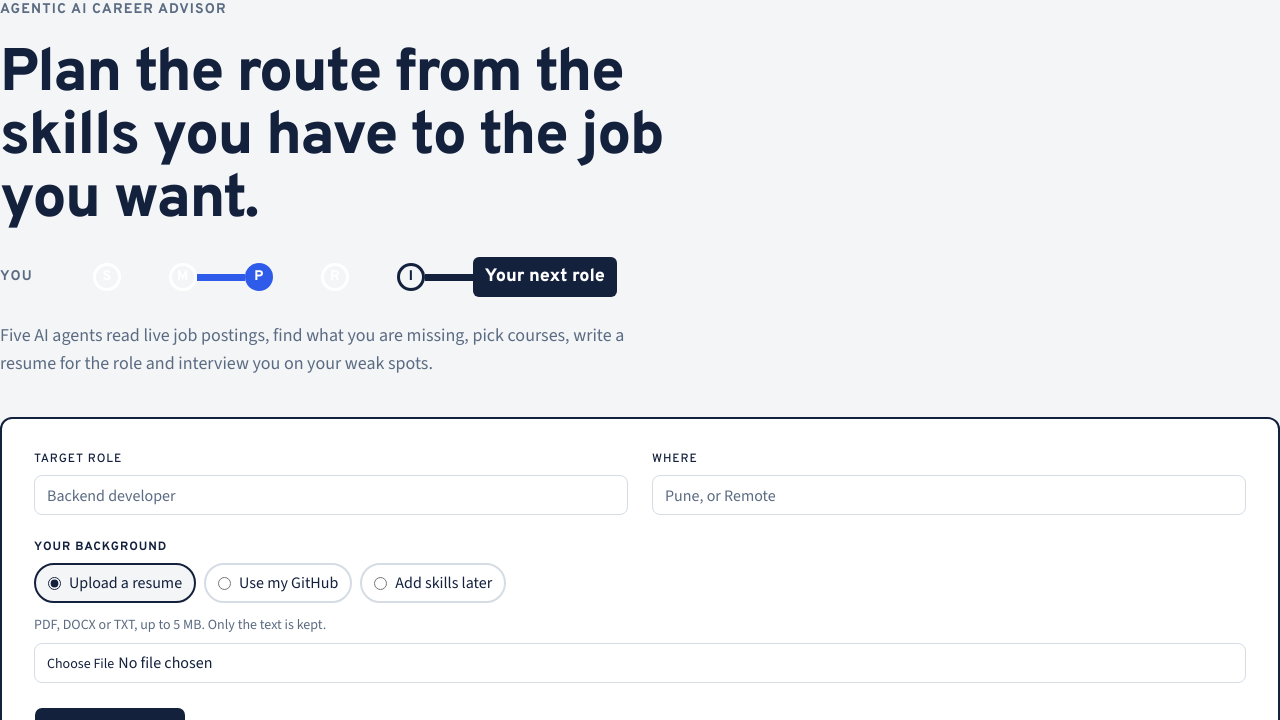
Test: StartForm › shows the server's message and stays on the page when the request is rejected
Click the field labelled "Target role".
click(331, 495)  # box [34,475,628,515]
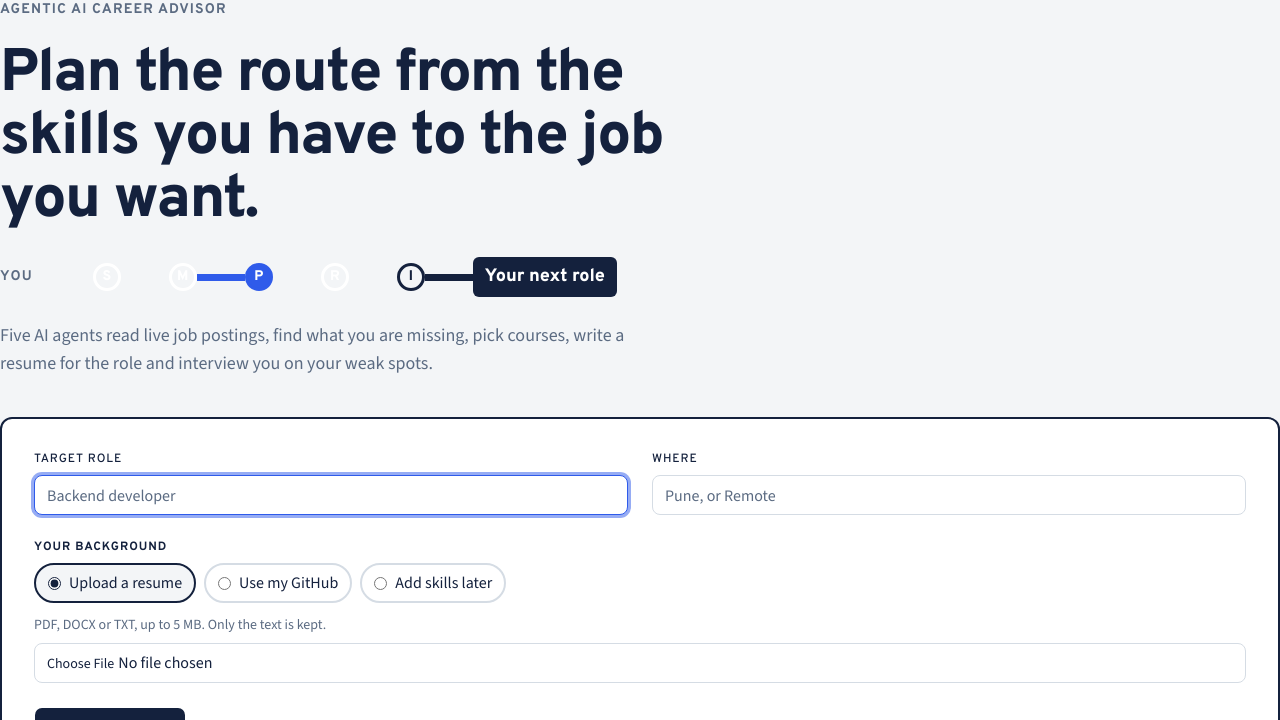
Type keys "Backend developer"
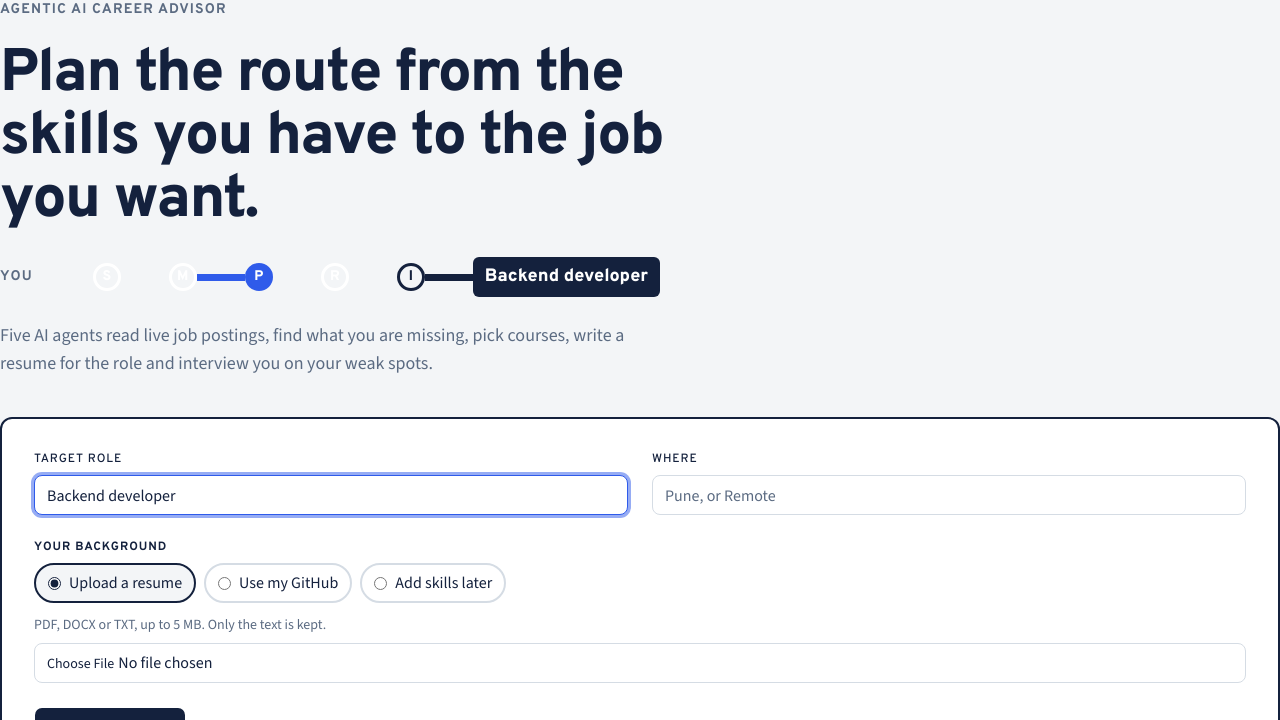
Click the field labelled "Where".
click(949, 495)  # box [652,475,1246,515]
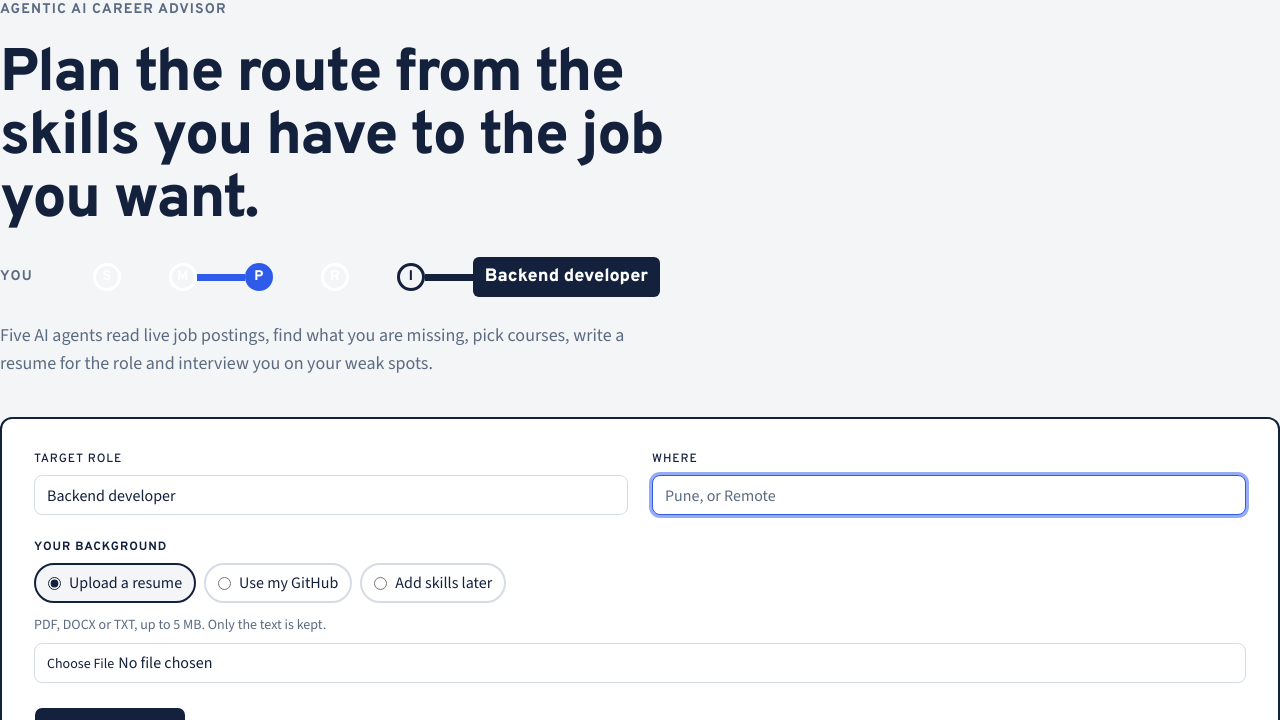
Type keys "Pune"
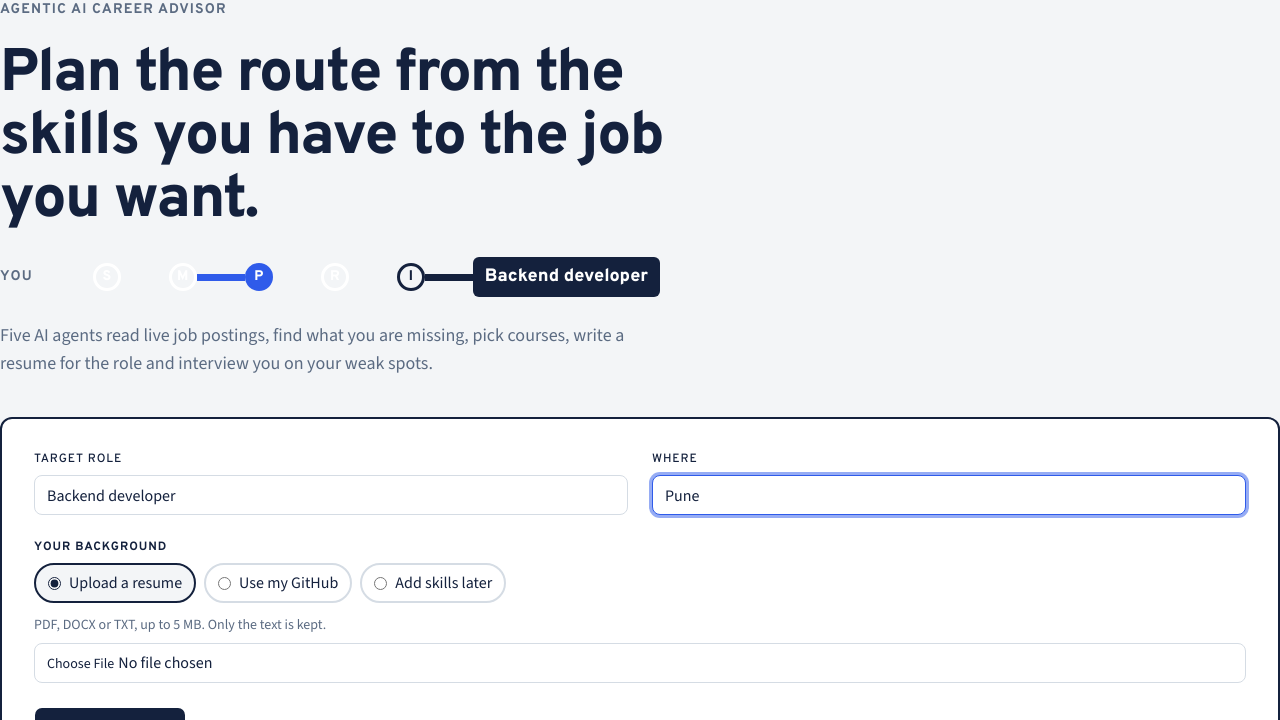
Click the radio button labelled "Add skills later".
click(381, 583)  # box [374,576,387,590]
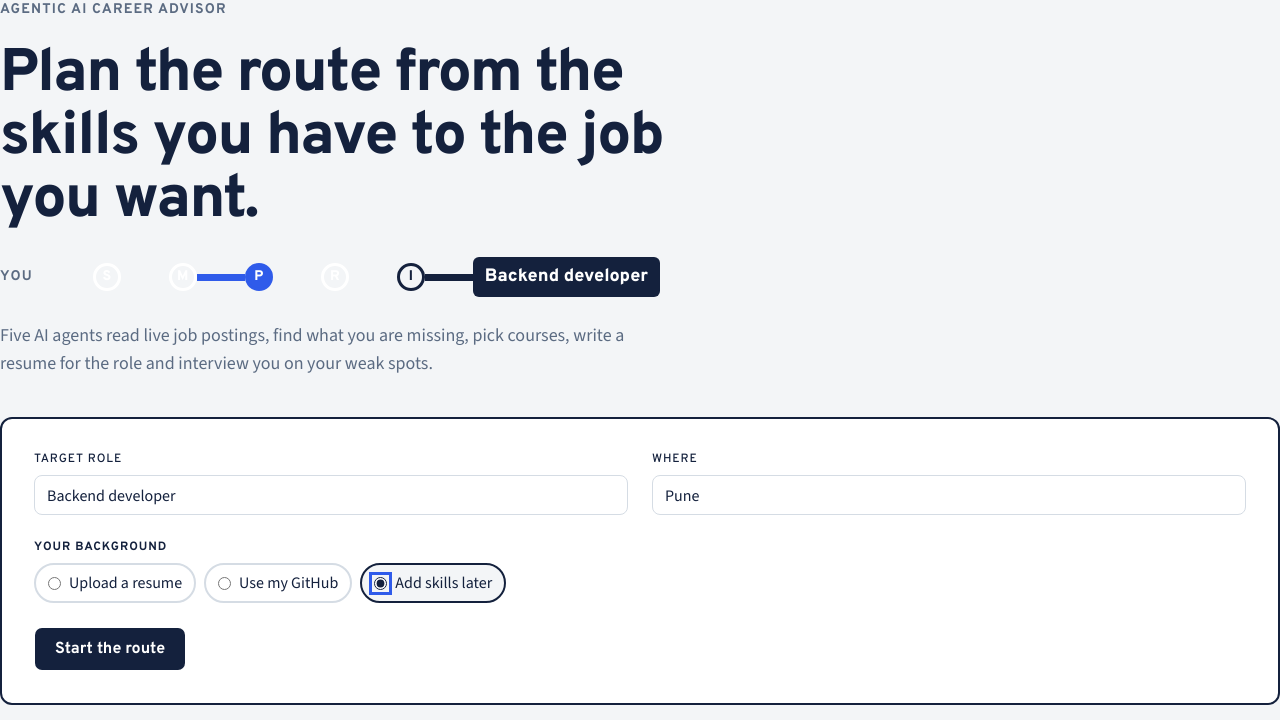
Click the button "Start the route".
click(110, 649)  # box [34,627,186,671]
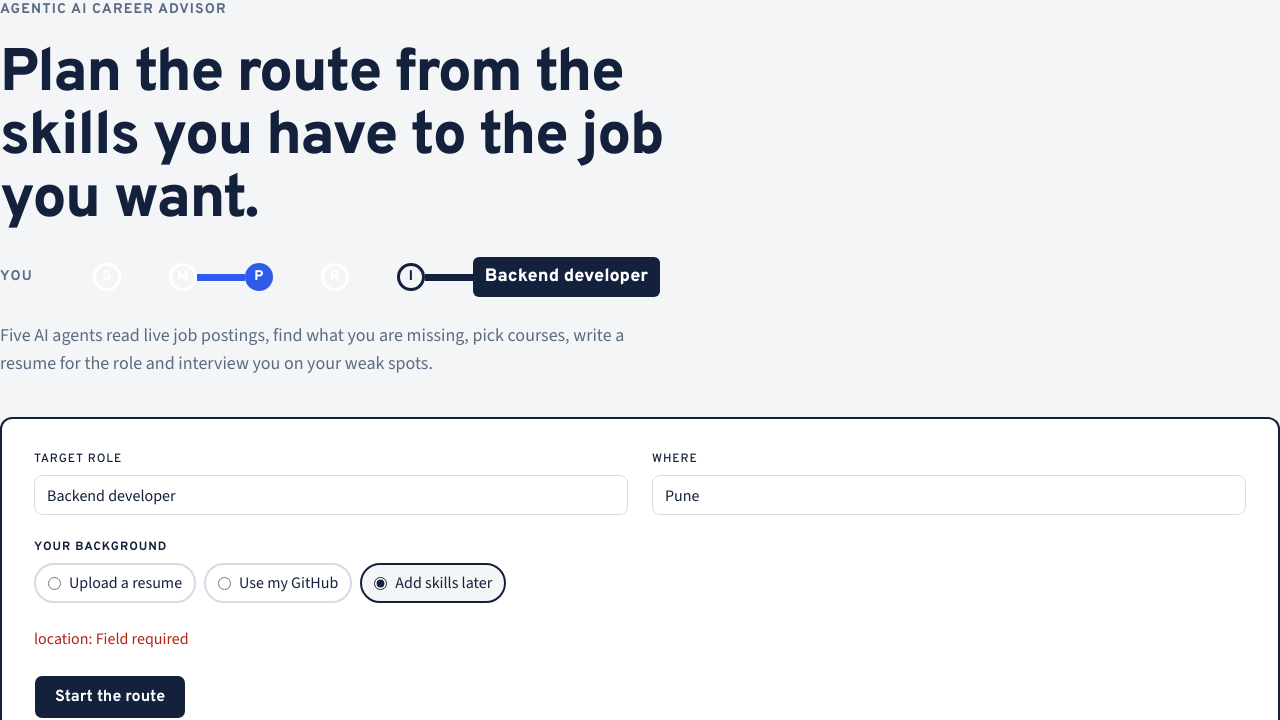
Expected: the button "Start the route" is enabled, [34,675,186,719]
Now the message reads "location: Field required", box [34,628,189,649]
